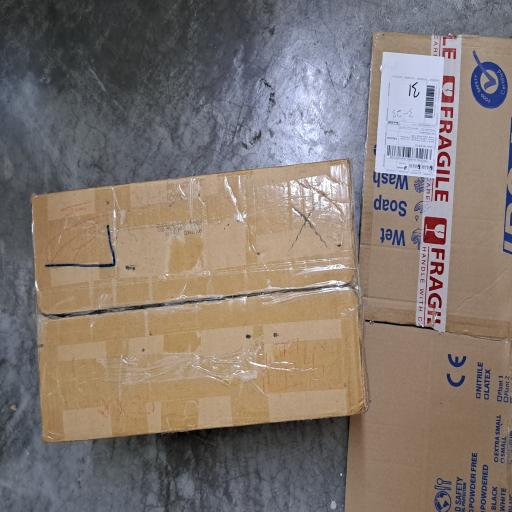cardboard: (50, 39, 267, 483), (0, 456, 361, 512)
